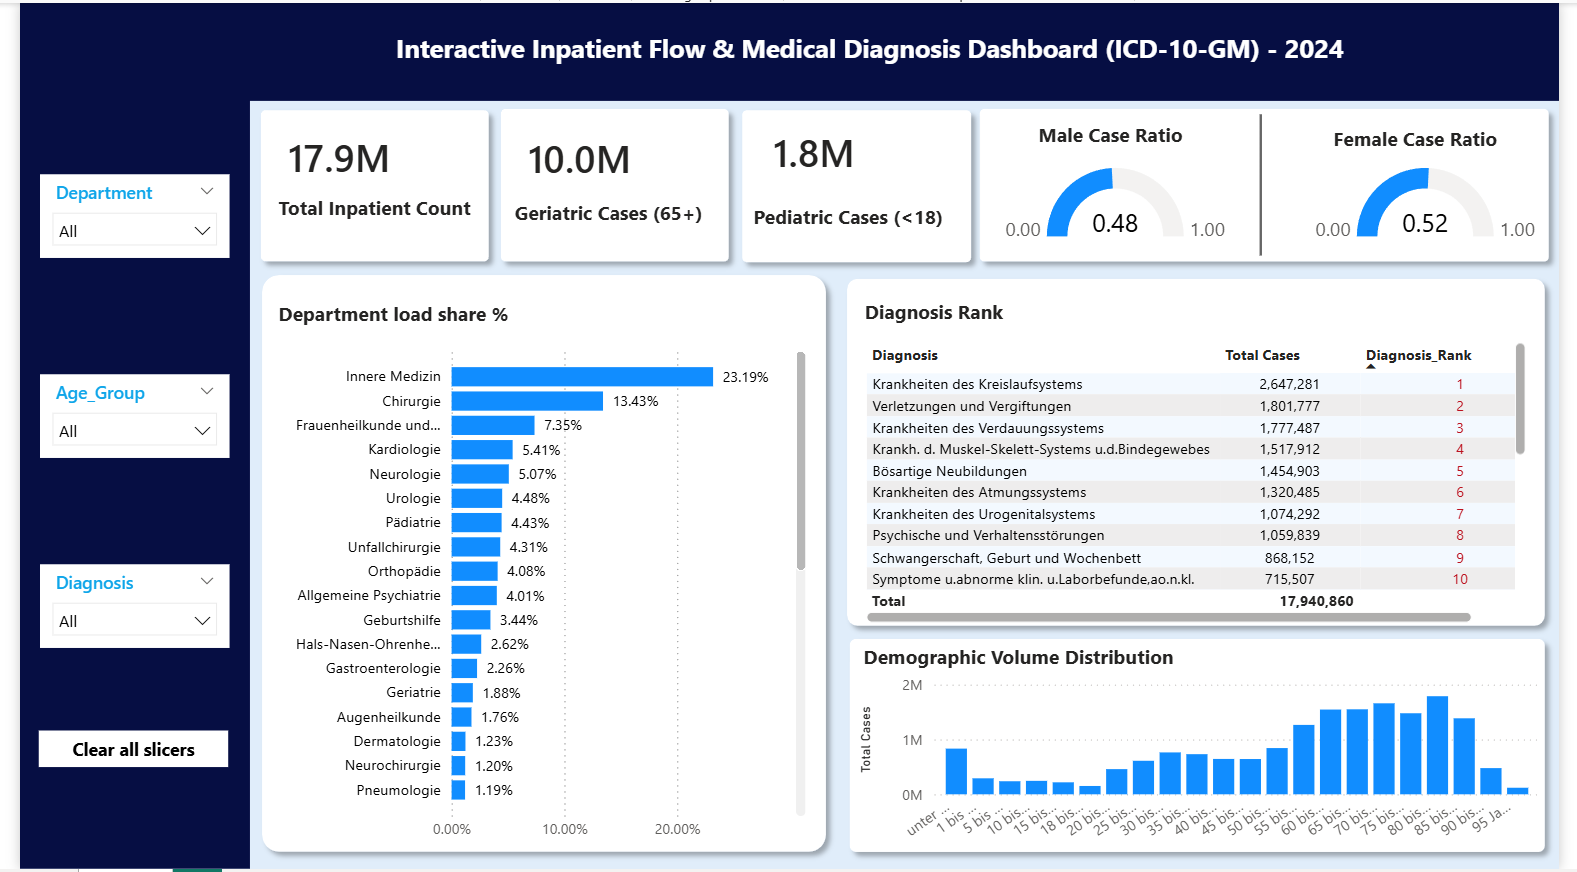

The page's visual inventory and layout, read from the dashboard file:
{"tool":"powerbi","page":{"name":"Page 1","canvas":[1280,720],"ordinal":0},"visuals":[{"type":"shape","box":[0,78.7,191.2,641],"z":0},{"type":"shape","box":[0,0,1280.2,81.4],"z":1000},{"type":"shape","box":[681,519.4,596,195.2],"z":2000},{"type":"shape","box":[788.8,78.8,491.2,145],"z":3000},{"type":"shape","box":[191.9,216.7,486.8,497.4],"z":4000},{"type":"shape","box":[391,79.2,207.5,145],"z":5000},{"type":"shape","box":[590.9,79.8,208.4,144.5],"z":6000},{"type":"shape","box":[191.2,80,207.5,143.8],"z":7000},{"type":"cardVisual","fields":{"Data":["German Healthcare Data.Total Cases"]},"box":[209.6,95.9,188.3,61.6],"z":8000},{"type":"barChart","fields":{"Category":["German Healthcare Data.Department"],"Y":["German Healthcare Data.Dep Load Share %"]},"box":[213.2,275.9,445.3,428.7],"z":9000},{"type":"textbox","box":[605.2,161.1,183.6,33.2],"z":10000},{"type":"gauge","fields":{"Y":["German Healthcare Data.Male_Cases_Ratio"]},"box":[810,120,202.5,97.5],"z":11000},{"type":"textbox","box":[842,93.6,156.3,34.3],"z":12000},{"type":"textbox","box":[406.2,157.5,180,40.3],"z":13000},{"type":"textbox","box":[307.5,17.8,843.7,47.2],"z":14000},{"type":"textbox","box":[209.9,153.7,180.9,34.7],"z":15000},{"type":"cardVisual","fields":{"Data":["German Healthcare Data.Geriatric Cases"]},"box":[409.8,95.9,176.5,64],"z":16000},{"type":"cardVisual","fields":{"Data":["German Healthcare Data.Pediatric_Cases"]},"box":[613.2,95.3,166.2,53.8],"z":17000},{"type":"shape","box":[678.9,220.4,598.1,306.4],"z":18000},{"type":"textbox","box":[1087.5,96.2,161.2,31.2],"z":19000},{"type":"slicer","fields":{"Values":["German Healthcare Data.Age_Group"]},"box":[16.6,309.1,157.5,69.9],"z":20000},{"type":"slicer","fields":{"Values":["German Healthcare Data.Diagnosis"]},"box":[16.6,466.6,157.5,69.9],"z":21000},{"type":"tableEx","fields":{"Values":["German Healthcare Data.Diagnosis","German Healthcare Data.Total Cases","German Healthcare Data.Diagnosis_Rank"]},"box":[697.8,277,559.3,242.4],"z":22000},{"type":"textbox","box":[697.6,240.4,170.5,35.5],"z":23000},{"type":"textbox","box":[210,242.5,251.2,35],"z":24000},{"type":"slicer","fields":{"Values":["German Healthcare Data.Department"]},"box":[16.6,142.1,157.5,69.9],"z":25000},{"type":"gauge","fields":{"Y":["German Healthcare Data.Female_Cases_Ratio"]},"box":[1067.5,120,202.5,97.5],"z":26000},{"type":"shape","box":[1027.5,92.5,7.5,117.5],"z":27000},{"type":"actionButton","box":[15.4,605.2,157.5,30.8],"z":28000},{"type":"columnChart","fields":{"Category":["German Healthcare Data.Age_Group"],"Y":["German Healthcare Data.Total Cases"]},"box":[693.6,553,575,153.2],"z":29000},{"type":"textbox","box":[696.8,526.8,281.2,35.7],"z":30000}]}

Visuals, with their boxes in screenshot pixels (x1, y1, x2, y2), scaled from the page's 1280x720 canvas onto the 1577x872 screenshot:
shape: (x1=0, y1=95, x2=236, y2=871)
shape: (x1=0, y1=0, x2=1576, y2=99)
shape: (x1=839, y1=629, x2=1573, y2=865)
shape: (x1=972, y1=95, x2=1576, y2=271)
shape: (x1=236, y1=262, x2=836, y2=865)
shape: (x1=482, y1=96, x2=737, y2=272)
shape: (x1=728, y1=97, x2=985, y2=272)
shape: (x1=236, y1=97, x2=491, y2=271)
cardVisual - German Healthcare Data.Total Cases: (x1=258, y1=116, x2=490, y2=191)
barChart - German Healthcare Data.Department x German Healthcare Data.Dep Load Share %: (x1=263, y1=334, x2=811, y2=853)
textbox: (x1=746, y1=195, x2=972, y2=235)
gauge - German Healthcare Data.Male_Cases_Ratio: (x1=998, y1=145, x2=1247, y2=263)
textbox: (x1=1037, y1=113, x2=1230, y2=155)
textbox: (x1=500, y1=191, x2=722, y2=240)
textbox: (x1=379, y1=22, x2=1418, y2=79)
textbox: (x1=259, y1=186, x2=481, y2=228)
cardVisual - German Healthcare Data.Geriatric Cases: (x1=505, y1=116, x2=722, y2=194)
cardVisual - German Healthcare Data.Pediatric_Cases: (x1=755, y1=115, x2=960, y2=181)
shape: (x1=836, y1=267, x2=1573, y2=638)
textbox: (x1=1340, y1=117, x2=1538, y2=154)
slicer - German Healthcare Data.Age_Group: (x1=20, y1=374, x2=214, y2=459)
slicer - German Healthcare Data.Diagnosis: (x1=20, y1=565, x2=214, y2=650)
tableEx - German Healthcare Data.Diagnosis x German Healthcare Data.Total Cases: (x1=860, y1=335, x2=1549, y2=629)
textbox: (x1=859, y1=291, x2=1070, y2=334)
textbox: (x1=259, y1=294, x2=568, y2=336)
slicer - German Healthcare Data.Department: (x1=20, y1=172, x2=214, y2=257)
gauge - German Healthcare Data.Female_Cases_Ratio: (x1=1315, y1=145, x2=1565, y2=263)
shape: (x1=1266, y1=112, x2=1275, y2=254)
actionButton: (x1=19, y1=733, x2=213, y2=770)
columnChart - German Healthcare Data.Age_Group x German Healthcare Data.Total Cases: (x1=855, y1=670, x2=1563, y2=855)
textbox: (x1=858, y1=638, x2=1205, y2=681)
